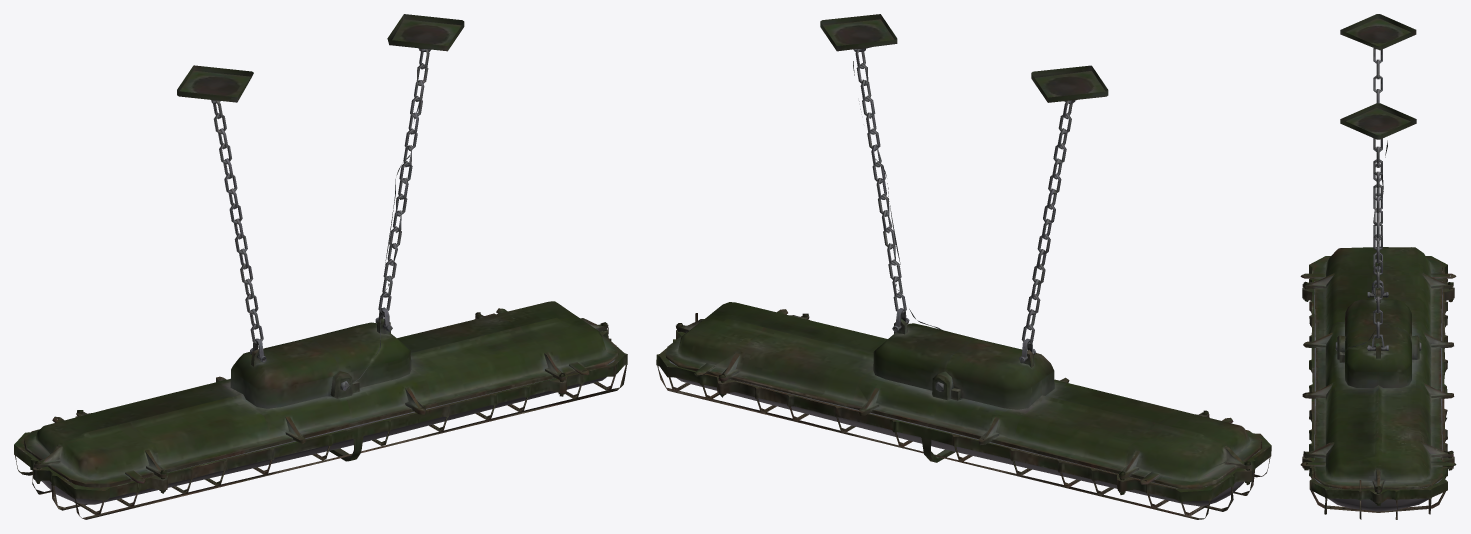
Rendered from caged_hanging_light.glb.
3 renders of one model, left to right at view 1: azimuth 30°, elevation 25°; view 2: azimuth 150°, elevation 25°; view 3: azimuth 270°, elevation 25°, orthographic. The views are drawn at different scales.
Parts seen in each view (by area): view 1: caged_hanging_light; view 2: caged_hanging_light; view 3: caged_hanging_light.
Boxes of the visible parts, left/top/right/bottom form: caged_hanging_light: left=14, top=14, right=627, bottom=519; caged_hanging_light: left=656, top=14, right=1271, bottom=519; caged_hanging_light: left=1300, top=14, right=1456, bottom=519.
Bounding box in the file's own units: 1.16 × 0.7501 × 0.3149.
Materials: 1 (1 with a texture image).
